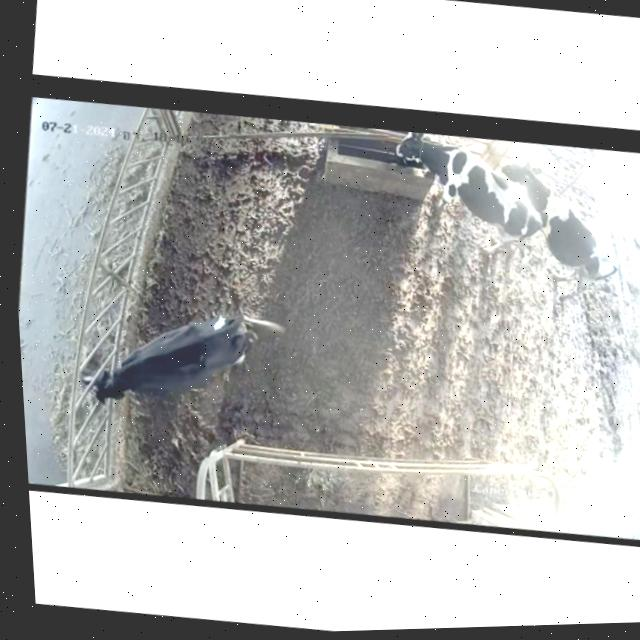drink: (381, 129, 477, 194)
eat: (50, 338, 165, 417)
stand: (488, 151, 631, 300)
